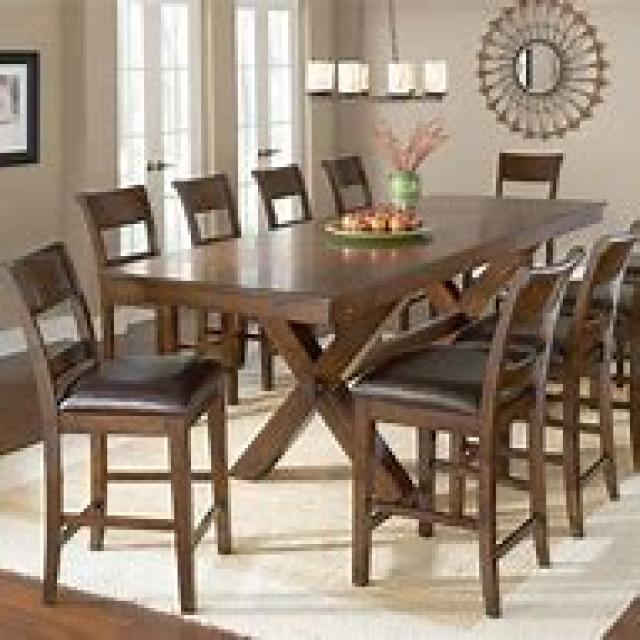chair: (345, 242, 583, 615), (0, 238, 231, 612)
table: (94, 188, 606, 566)
